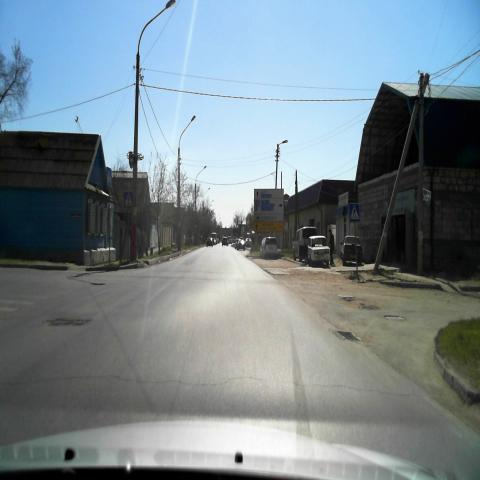3_1: (127, 149, 135, 171)
5_19_1: (123, 190, 135, 206)
